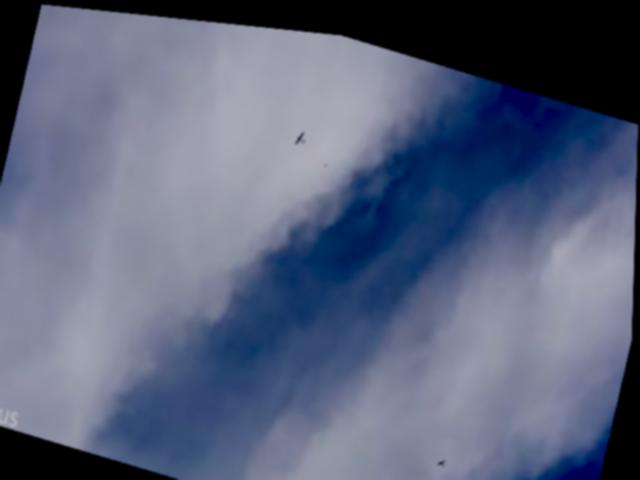uav: (292, 119, 309, 141), (439, 445, 451, 459)
